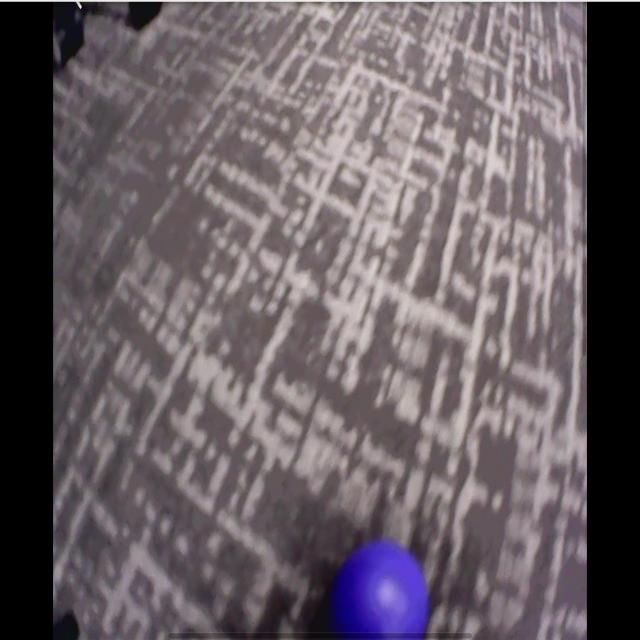ball: (330, 541, 427, 638)
